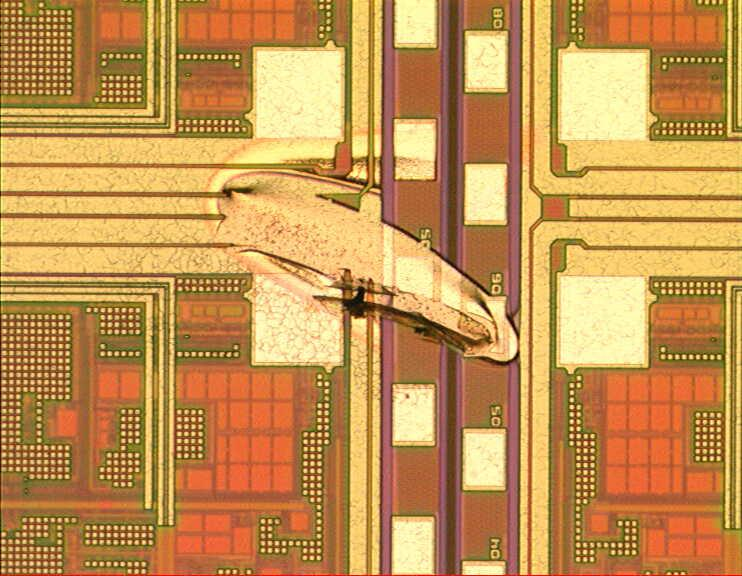BLOCK ETCH: (201, 129, 525, 374)
